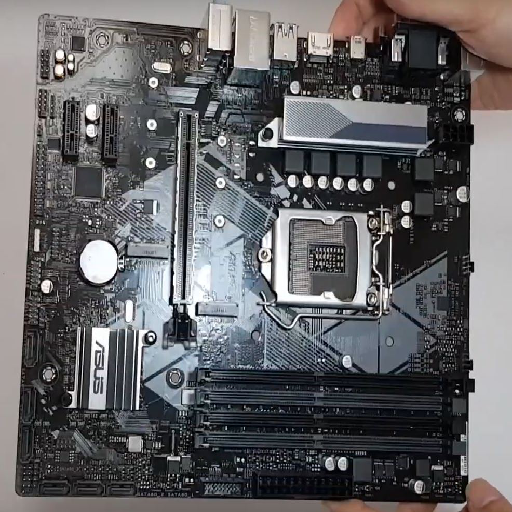CPU: (258, 207, 392, 315)
GPU: (161, 108, 201, 350)
MOTHERBOARD: (13, 14, 470, 505)
RAM: (193, 367, 468, 458)
SSD: (125, 241, 171, 260), (195, 301, 241, 319)
